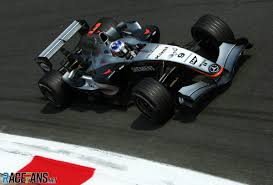FormulaOneCar: (35, 14, 249, 124)
